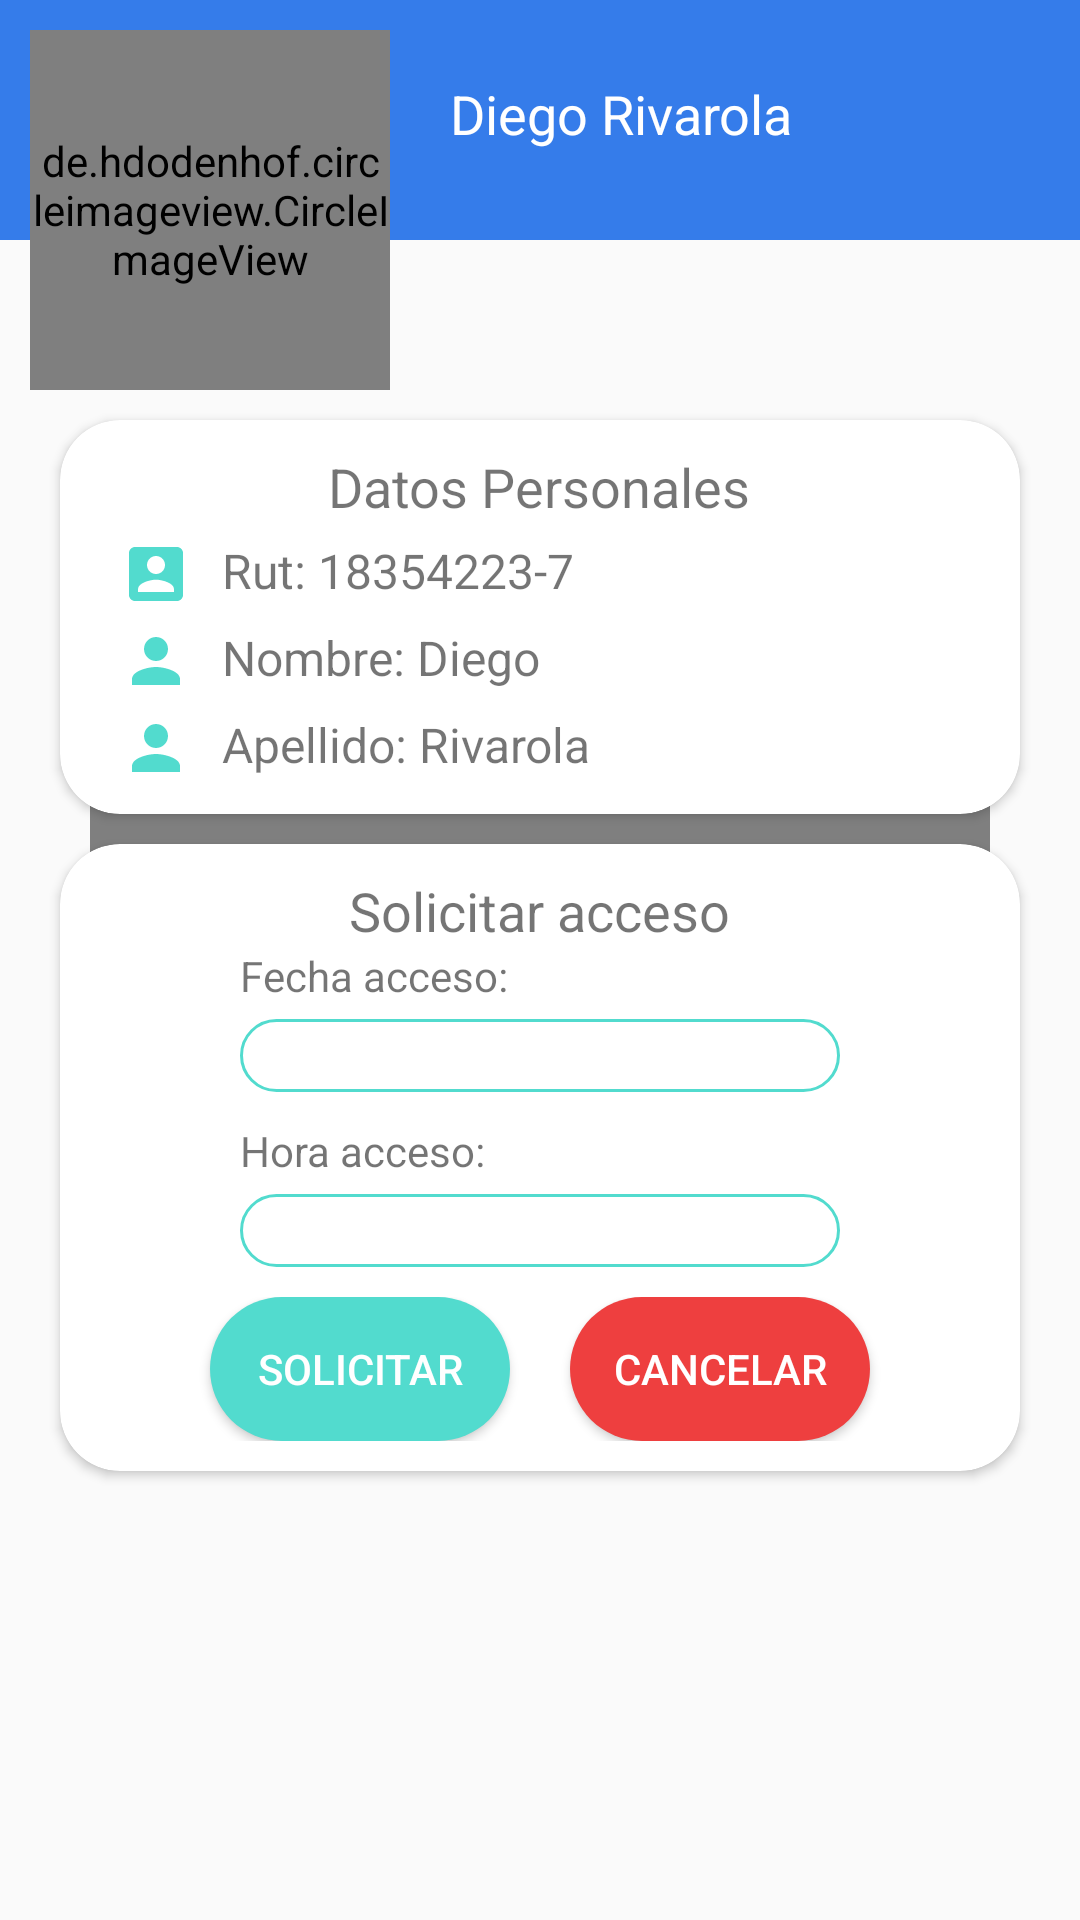

Icons on this 1080*1920 Android screen, each with its box as (x1, y1, x2, y2):
perfil: (132, 637, 180, 685), (132, 724, 180, 772)
